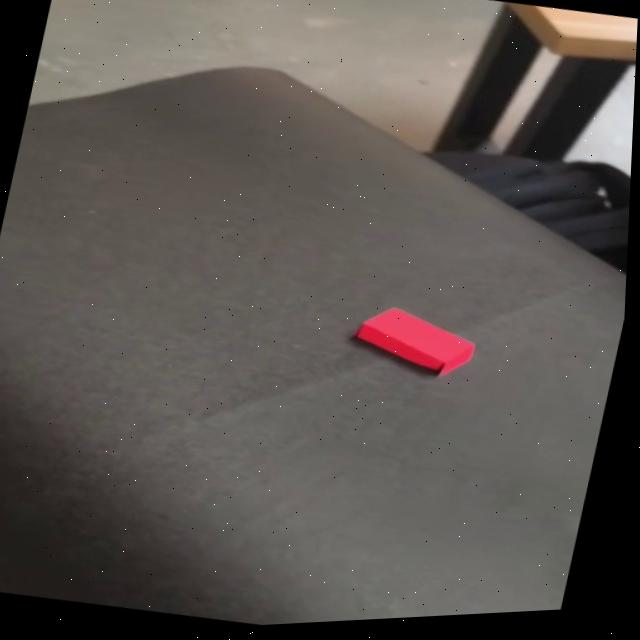red block: (344, 296, 483, 387)
